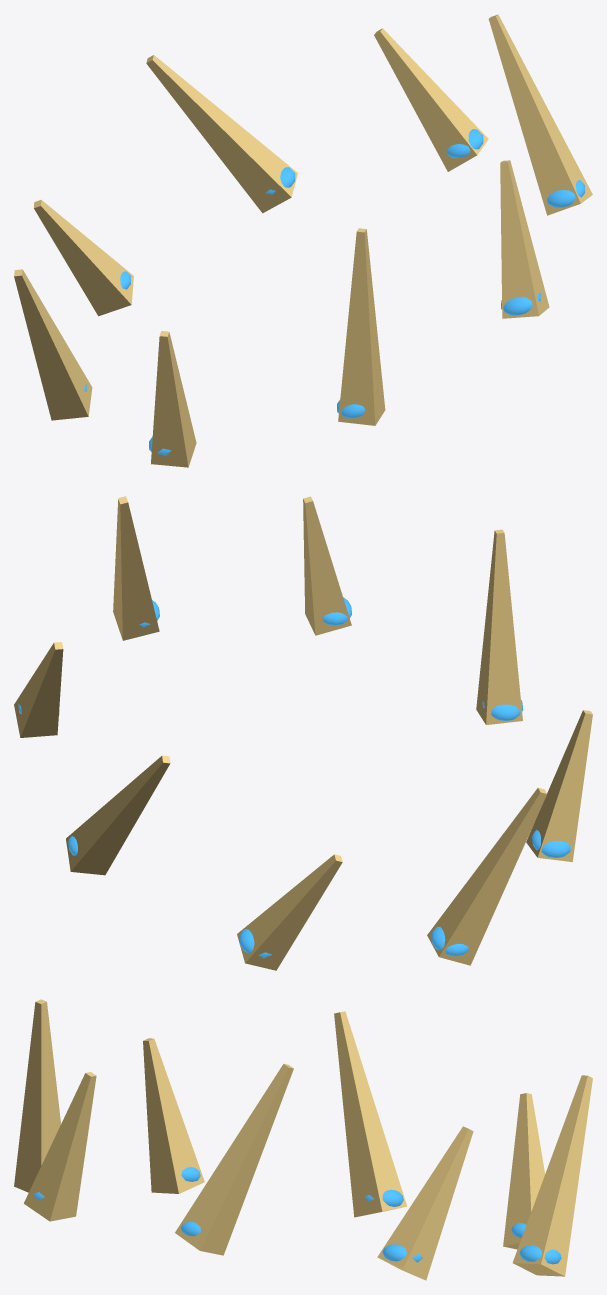
The model's file is SM_Keeper_Nun_Spires.fbx.
The picture shows the model from 3 angles, top to bottom: view 1: azimuth 30°, elevation 25°; view 2: azimuth 150°, elevation 25°; view 3: azimuth 270°, elevation 25°; orthographic projection.
Visible parts, largest first — view 1: SM_Keeper_Nun_Spires; view 2: SM_Keeper_Nun_Spires; view 3: SM_Keeper_Nun_Spires.
Boxes of the visible parts, x1=… form: SM_Keeper_Nun_Spires: x1=14, y1=14, x2=592, y2=467; SM_Keeper_Nun_Spires: x1=14, y1=496, x2=592, y2=970; SM_Keeper_Nun_Spires: x1=14, y1=999, x2=592, y2=1280.
Size of the model in its own units: 6.03 by 3.88 by 5.96.
